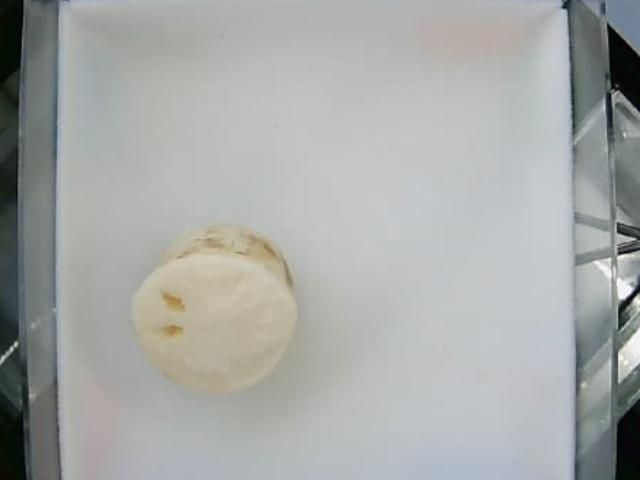Mooli: (128, 225, 297, 395)
